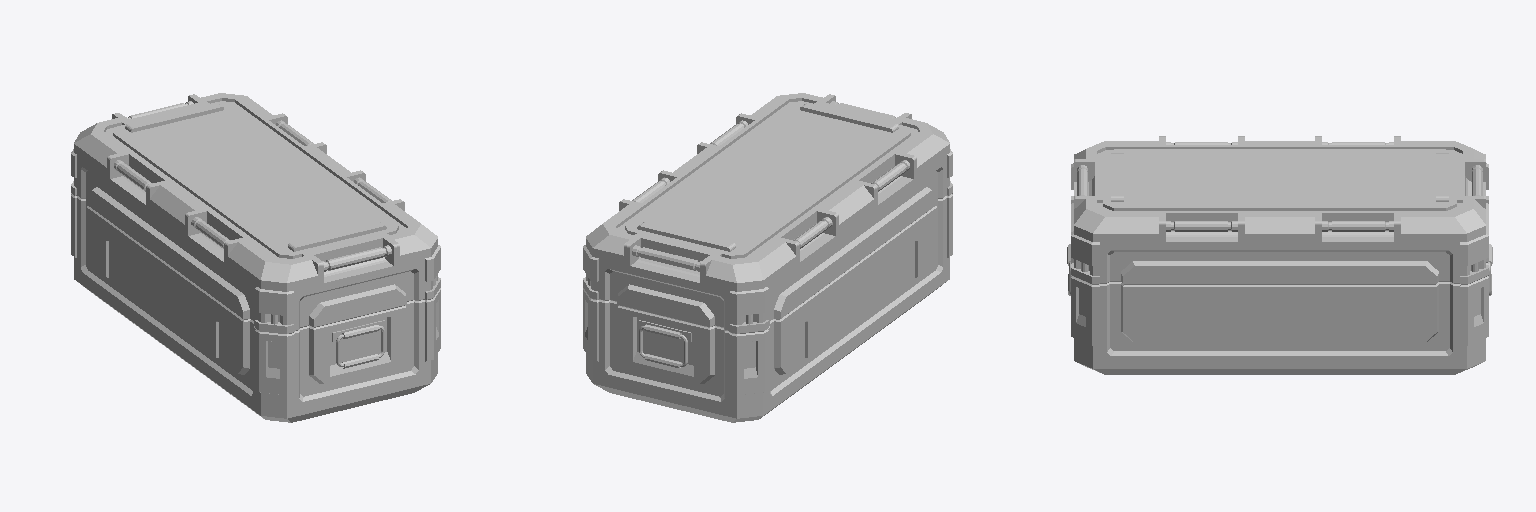
Rendered from Container.obj.
3 renders of one model, left to right at view 1: azimuth 30°, elevation 25°; view 2: azimuth 150°, elevation 25°; view 3: azimuth 270°, elevation 25°, orthographic.
Visible parts, largest first — view 1: containerObj; view 2: containerObj; view 3: containerObj.
Part boxes in pixels (x1,y1,x2,y2): containerObj: (71,93,440,422); containerObj: (583,93,952,422); containerObj: (1067,136,1492,374).
Bounding box in the file's own units: 2.05 × 1.74 × 4.14.